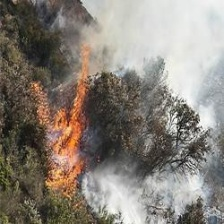fire: (23, 49, 114, 205)
smoke: (118, 14, 219, 217)
